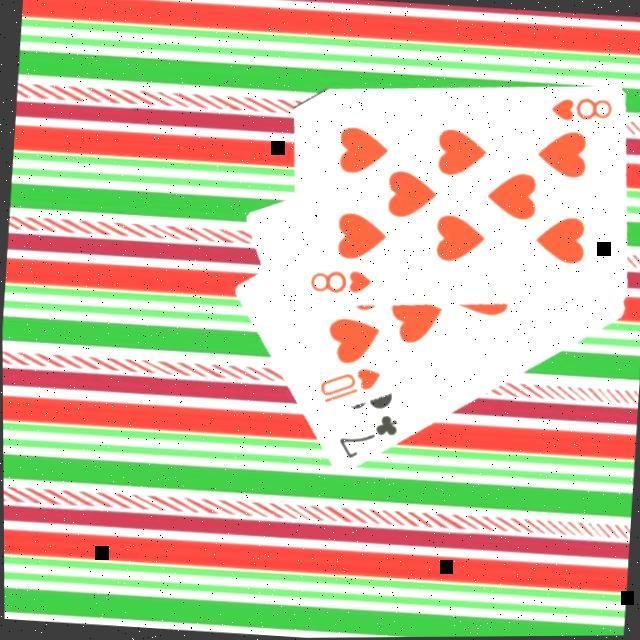10H: (314, 360, 384, 410)
7C: (333, 407, 402, 465)
8H: (305, 263, 376, 300), (547, 92, 616, 127)
